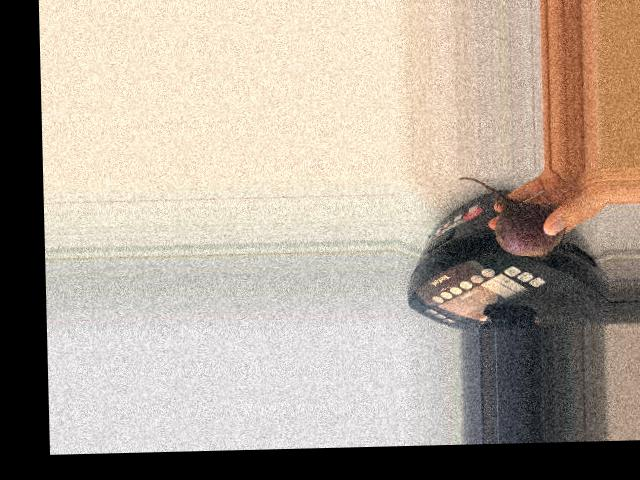beet: (458, 174, 565, 261)
